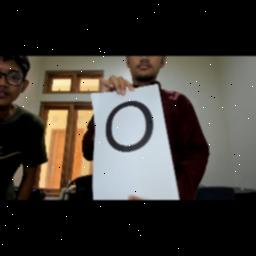o: (100, 92, 160, 156)
